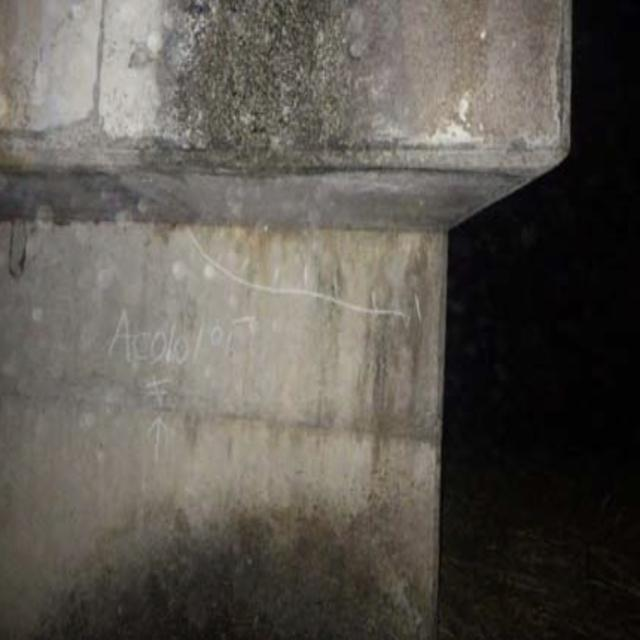freelime: (397, 92, 493, 158)
